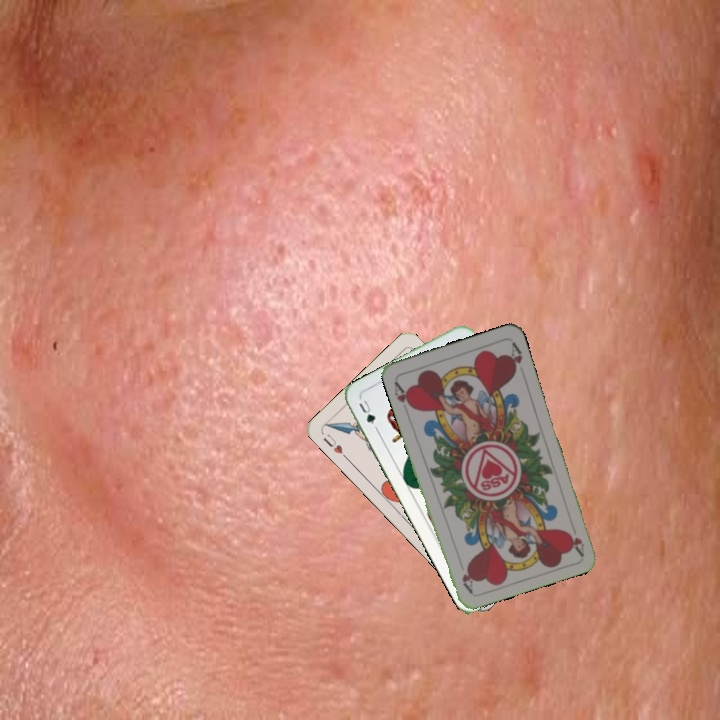GU: (355, 396, 378, 427)
HA: (563, 517, 587, 557), (390, 377, 416, 412)
HU: (319, 430, 350, 462)
